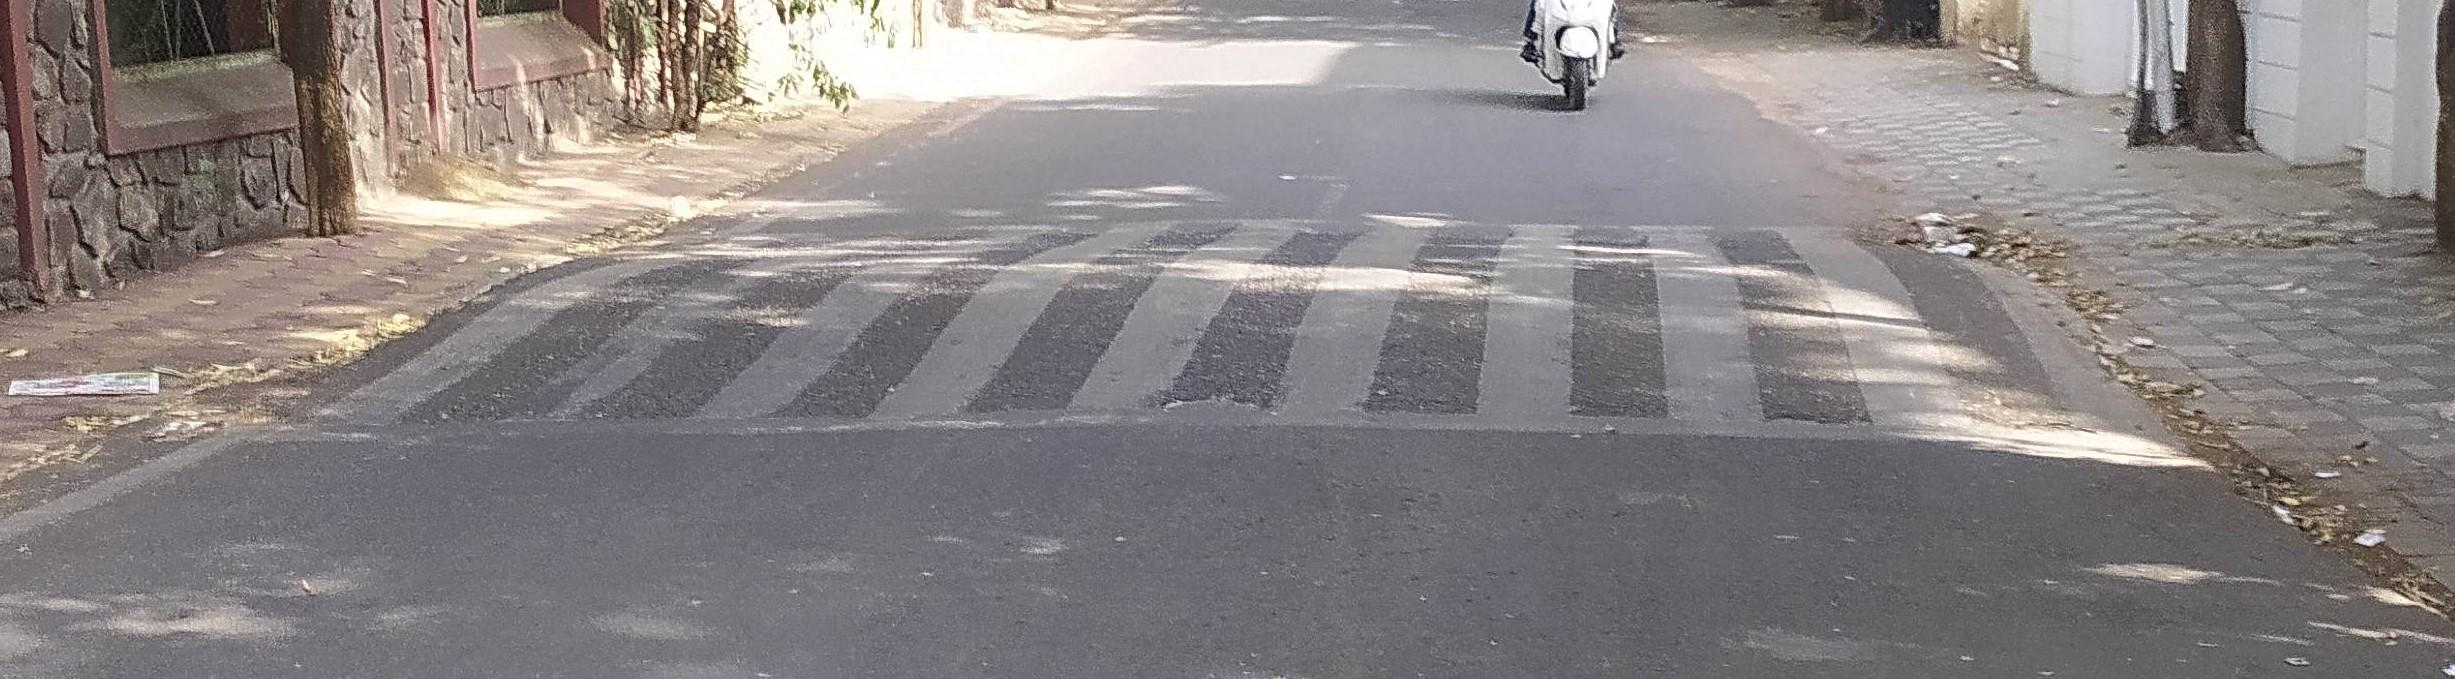speed-bump: (280, 226, 2148, 444)
